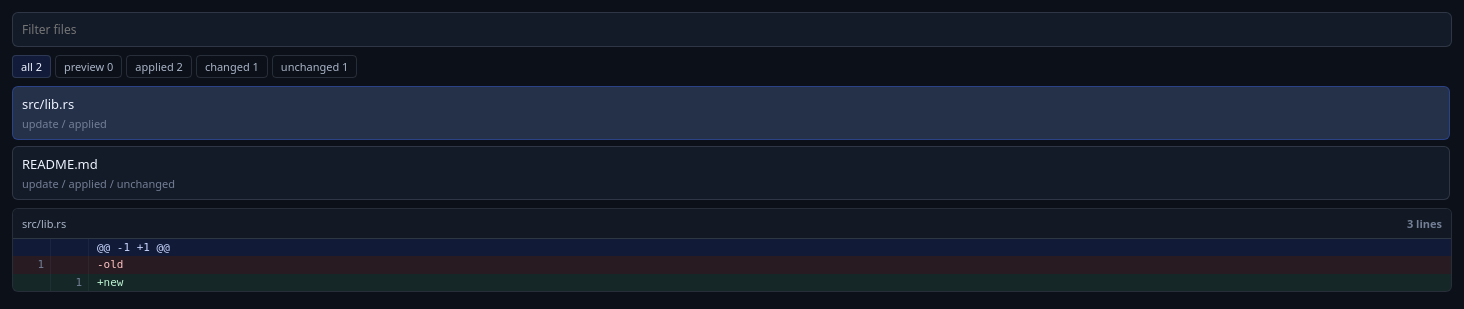
it: ChangeSetPanel › filters changed files and keeps the selected preview visible
The image size is (1464, 309).
Expected: the element named "Preview src/lib.rs" is shown, [12,208,1452,292]
Type "readme" into the search field named "Filter changed files" at (732, 30), box [12,12,1452,47]
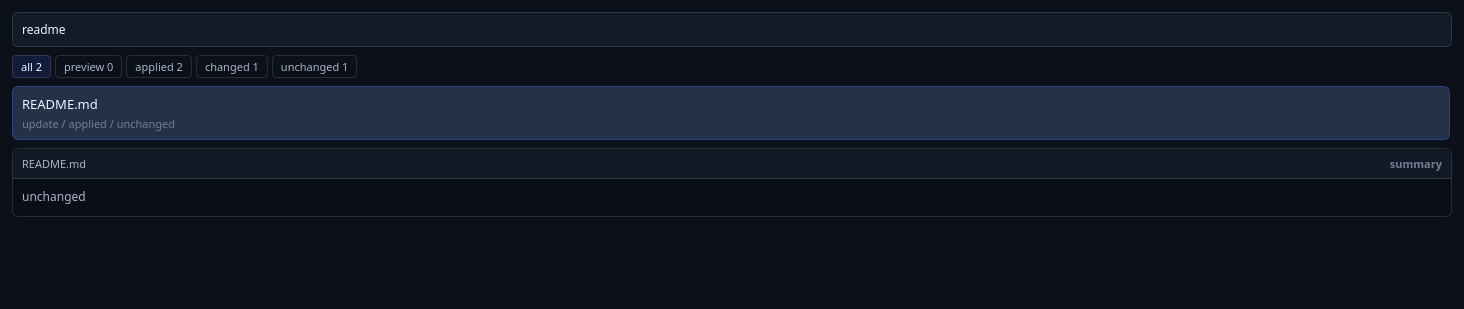
Expected: the button "README.md update / applied / unchanged" is shown, [12,86,1450,140]
Now the button "src/lib.rs" is gone
Now the element named "Preview README.md" shows "unchanged", box [22,188,86,205]
